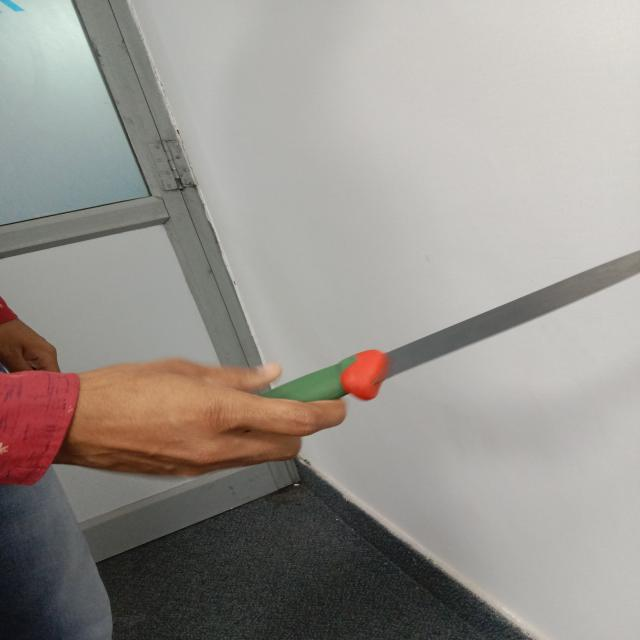Knife: (264, 251, 640, 402)
